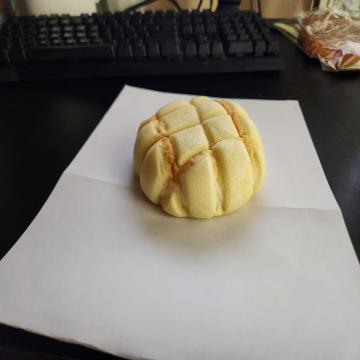melon_bread: (134, 94, 264, 217)
